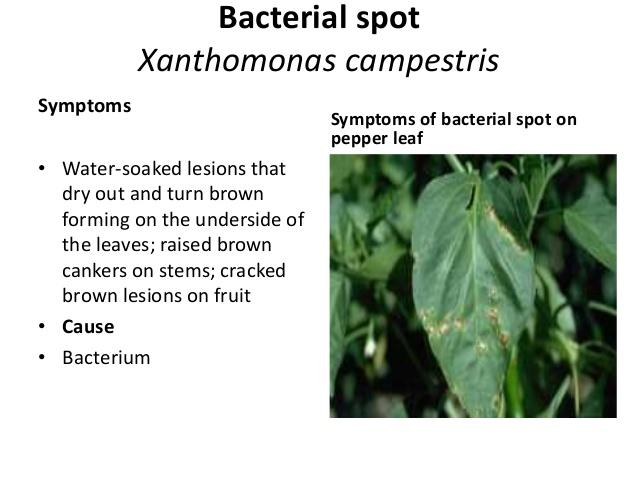Bell_pepper leaf: (409, 171, 548, 416)
